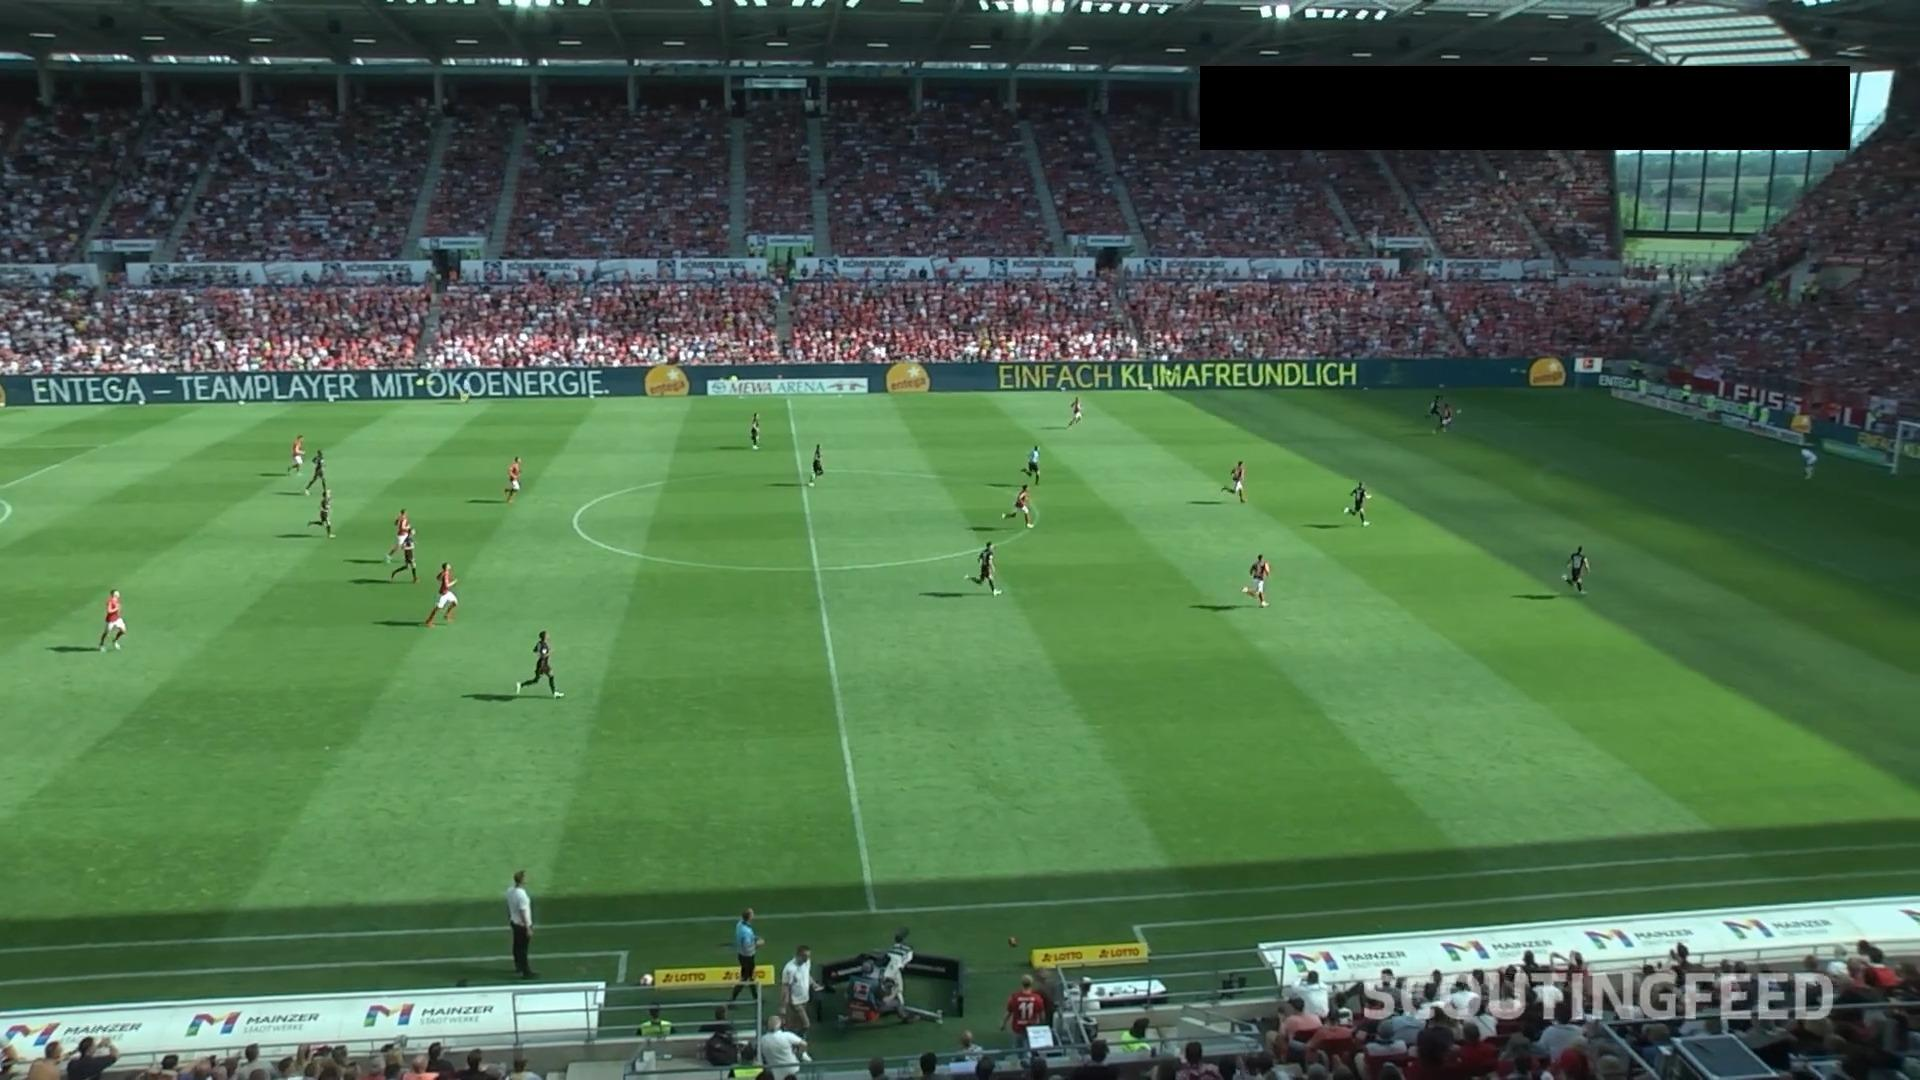ball: (1456, 407, 1462, 414)
